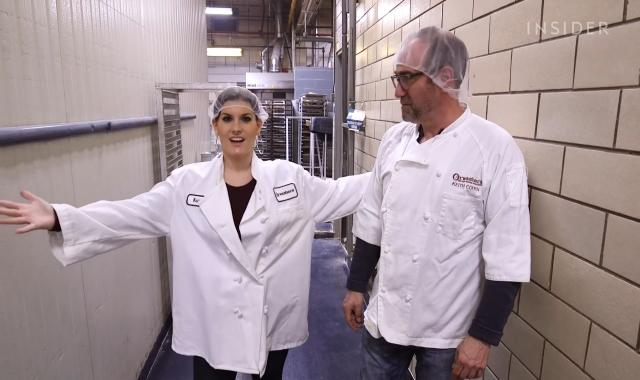hairnet: (397, 26, 470, 101), (206, 85, 268, 124)
